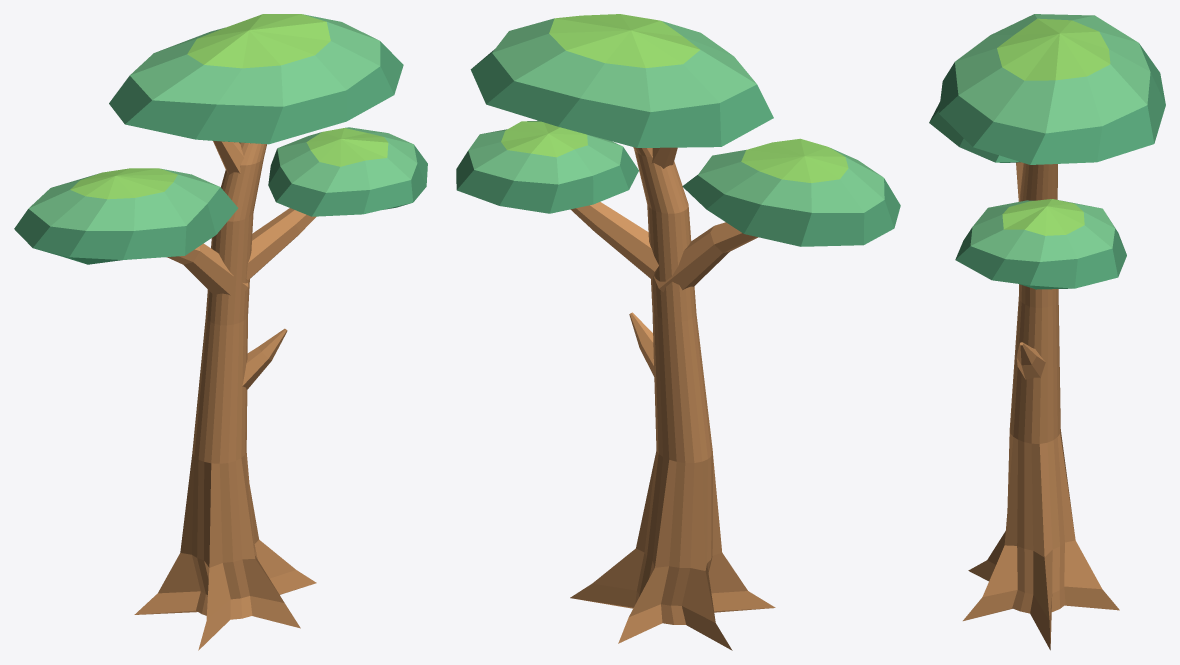
File: ScotsPine.glb
3 renders of one model, left to right at view 1: azimuth 30°, elevation 25°; view 2: azimuth 150°, elevation 25°; view 3: azimuth 270°, elevation 25°, orthographic. The views are drawn at different scales.
Parts seen in each view (by area): view 1: ScotsPine; view 2: ScotsPine; view 3: ScotsPine.
Part boxes in pixels (x1,y1,x2,y2): ScotsPine: (14,14,427,650); ScotsPine: (456,14,900,650); ScotsPine: (929,14,1165,650).
Bounding box in the file's own units: 3.94 × 5.32 × 1.95.
1 material, 1 textured.
